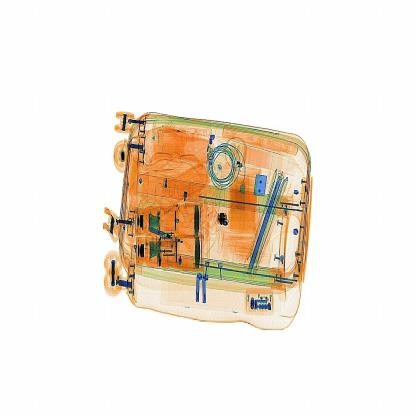scissors: (215, 210, 230, 231)
